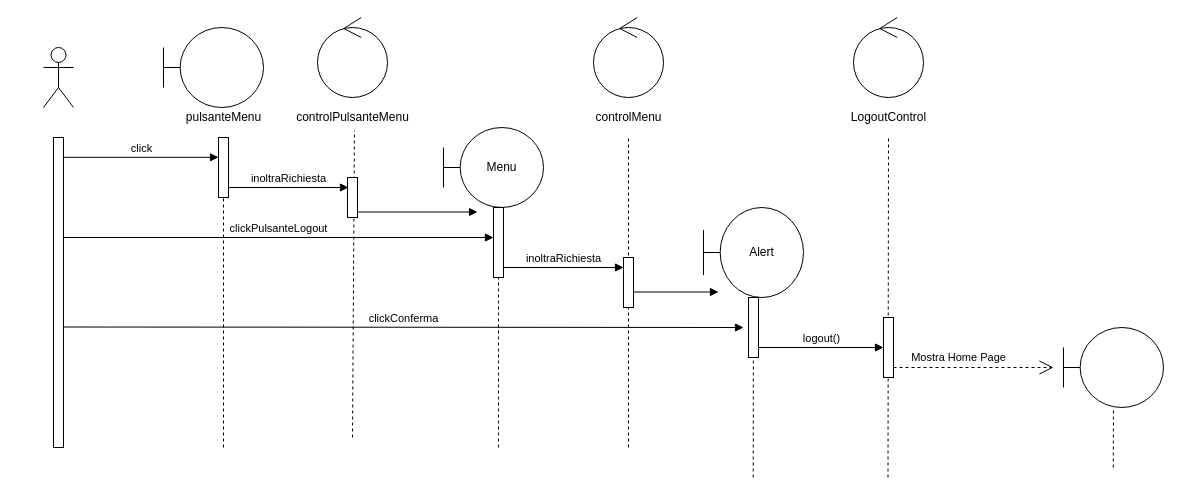
Image size: 1181x496. Some labels were removed from this diagram. The centre of each missing label's shape, as x and y in pixels:
"HomePage" belongs at [1113,367].
"Utente Loggato" belongs at [58,77].
